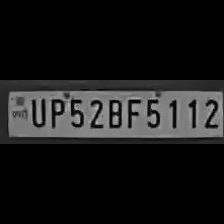1: (164, 96, 182, 130), (182, 95, 198, 129)
2: (199, 95, 221, 129), (86, 95, 104, 129)
5: (142, 95, 162, 129), (65, 96, 85, 128)
B: (104, 95, 124, 129)
F: (124, 96, 140, 128)
P: (46, 96, 64, 128)
U: (28, 96, 46, 128)
